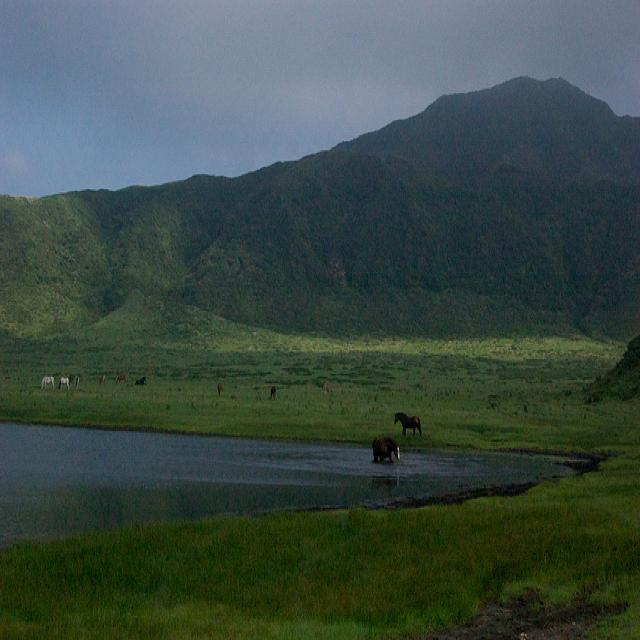cow: (371, 436, 399, 460)
